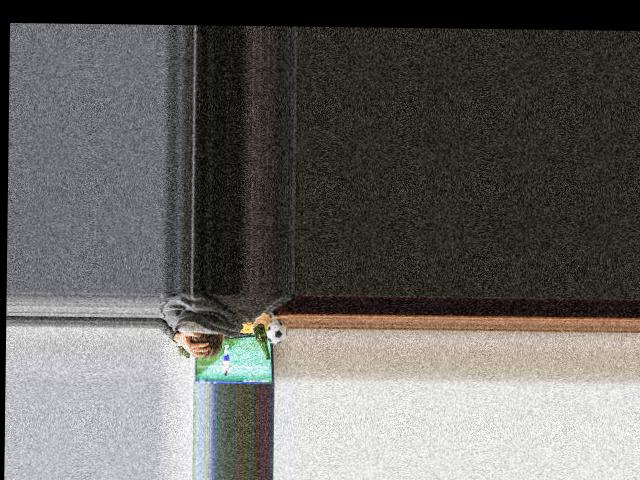beer: (252, 317, 271, 359)
